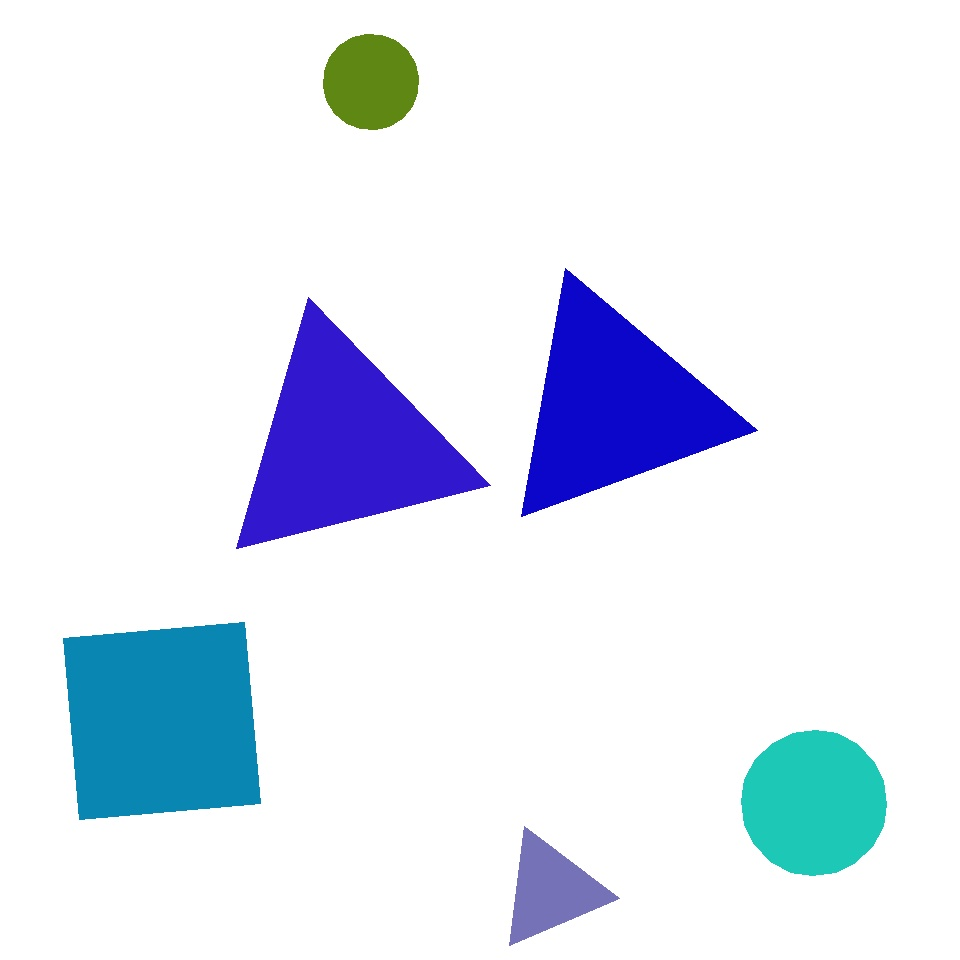circle: (218, 318, 472, 570), (497, 281, 733, 529), (496, 830, 606, 950)
square: (456, 588, 798, 930), (64, 622, 260, 820), (216, 632, 401, 816)
triangle: (232, 520, 456, 744), (755, 204, 940, 390), (742, 730, 886, 876), (324, 35, 419, 130)
